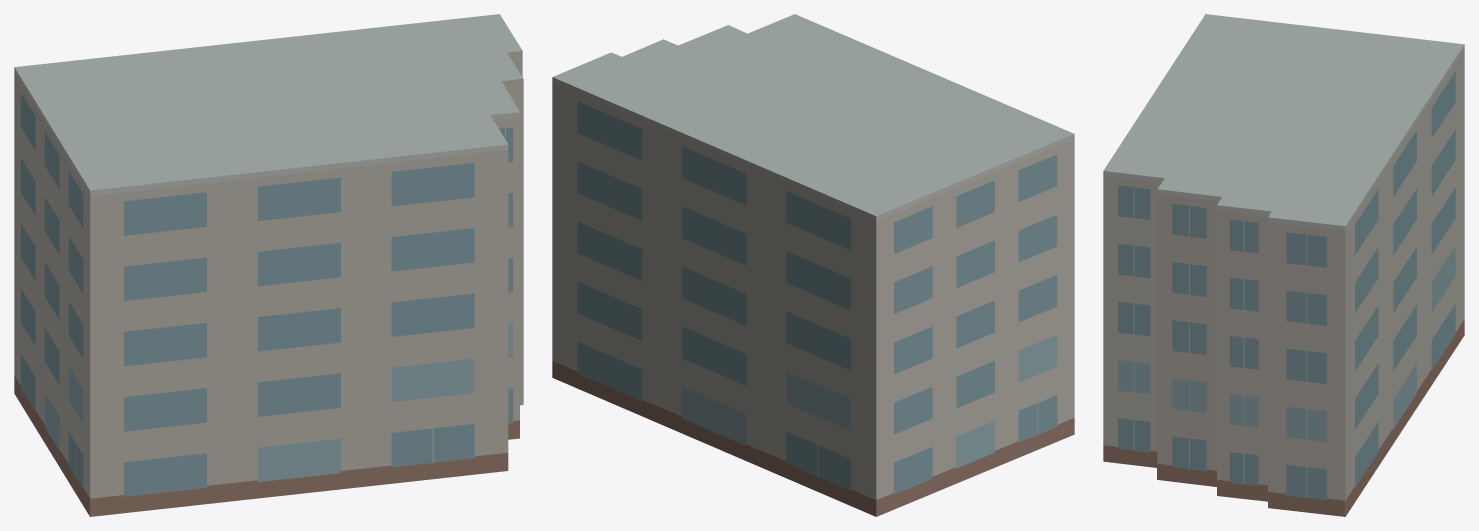
Rendered from survey-upis-32880797.glb.
3 renders of one model, left to right at view 1: azimuth 30°, elevation 25°; view 2: azimuth 150°, elevation 25°; view 3: azimuth 270°, elevation 25°, orthographic. The views are drawn at different scales.
Visible parts, largest first — view 1: survey-upis-32880797.tmp; view 2: survey-upis-32880797.tmp; view 3: survey-upis-32880797.tmp.
Part boxes in pixels (x1=…): survey-upis-32880797.tmp: x1=14, y1=14, x2=523, y2=516; survey-upis-32880797.tmp: x1=552, y1=14, x2=1074, y2=516; survey-upis-32880797.tmp: x1=1103, y1=14, x2=1464, y2=516.
Bounding box in the file's own units: 23.1 × 14.75 × 16.63.
